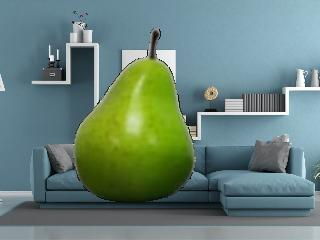pear: (70, 25, 204, 208)
